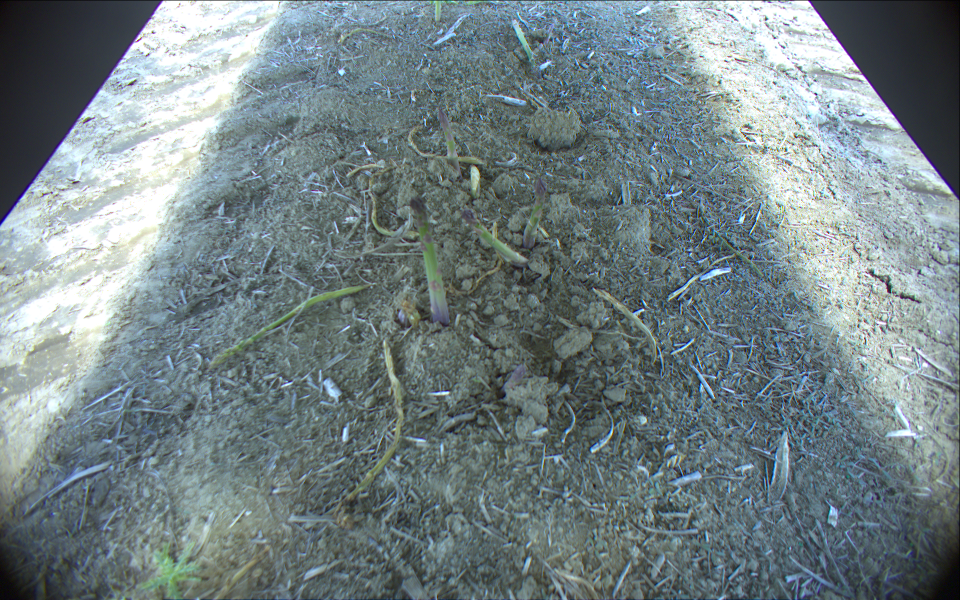aspa: (207, 284, 377, 372), (344, 340, 404, 501), (411, 196, 447, 324), (460, 207, 530, 267), (407, 124, 488, 164), (365, 172, 412, 240), (521, 178, 547, 251), (436, 104, 458, 176), (515, 21, 539, 74), (468, 163, 481, 200), (433, 1, 442, 22)
